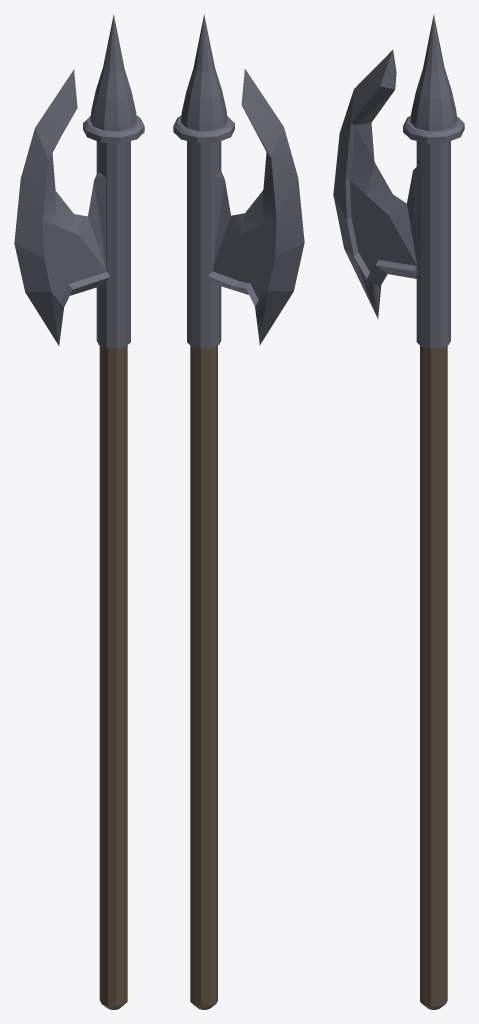
File: _HALBERT.fbx
The picture shows the model from 3 angles, left to right: view 1: azimuth 30°, elevation 25°; view 2: azimuth 150°, elevation 25°; view 3: azimuth 330°, elevation 25°; orthographic projection.
Parts seen in each view (by area): view 1: HALBERT; view 2: HALBERT; view 3: HALBERT.
Boxes of the visible parts, x1=… form: HALBERT: x1=14, y1=14, x2=144, y2=1009; HALBERT: x1=173, y1=14, x2=304, y2=1009; HALBERT: x1=333, y1=14, x2=464, y2=1009.
Size of the model in its own units: 29.97 by 224 by 12.08.
